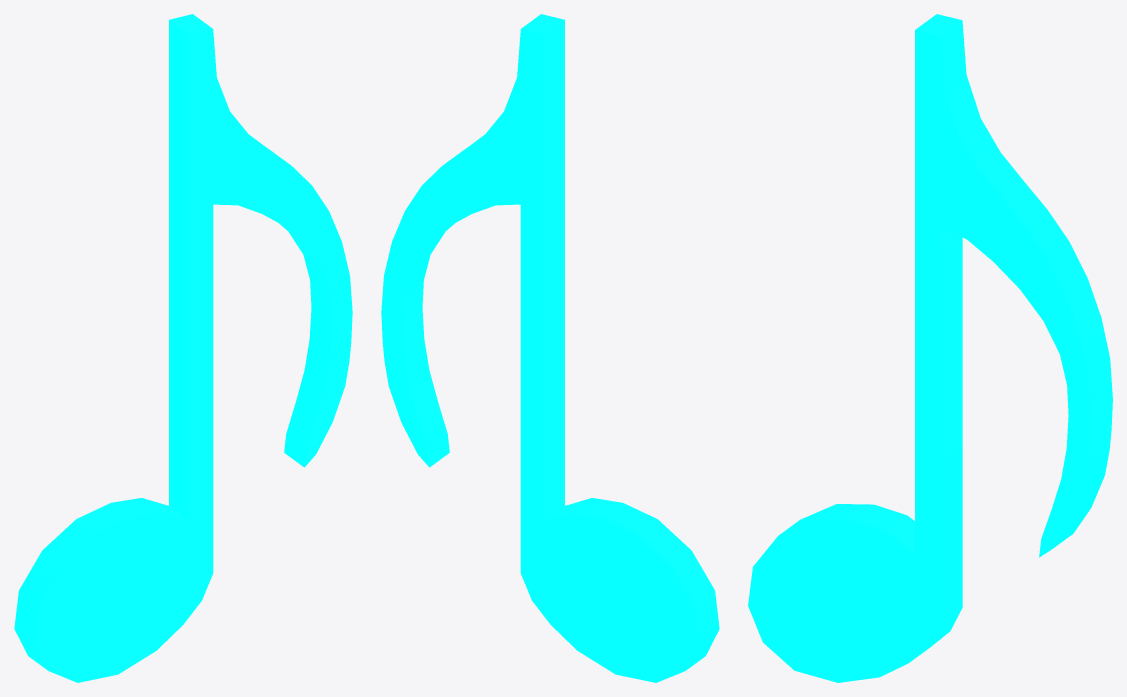
The model's file is note.02.fbx.
The picture shows the model from 3 angles, left to right: view 1: azimuth 30°, elevation 25°; view 2: azimuth 150°, elevation 25°; view 3: azimuth 330°, elevation 25°; orthographic projection. The views are drawn at different scales.
Parts seen in each view (by area): view 1: Vert.001; view 2: Vert.001; view 3: Vert.001.
Boxes of the visible parts, x1,y1,x2,y2 form: Vert.001: (14, 14, 352, 682); Vert.001: (381, 14, 719, 682); Vert.001: (748, 14, 1112, 682).
Size of the model in its own units: 18.01 by 33.7 by 2.
